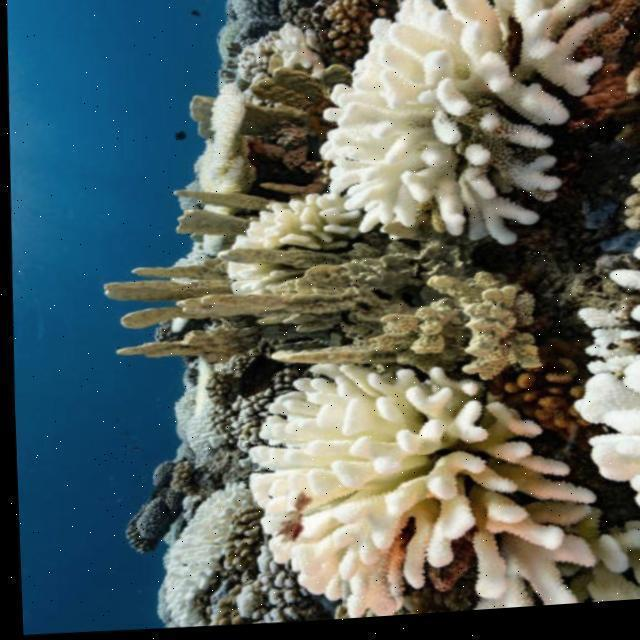Bleached Coral: (134, 0, 607, 616)
